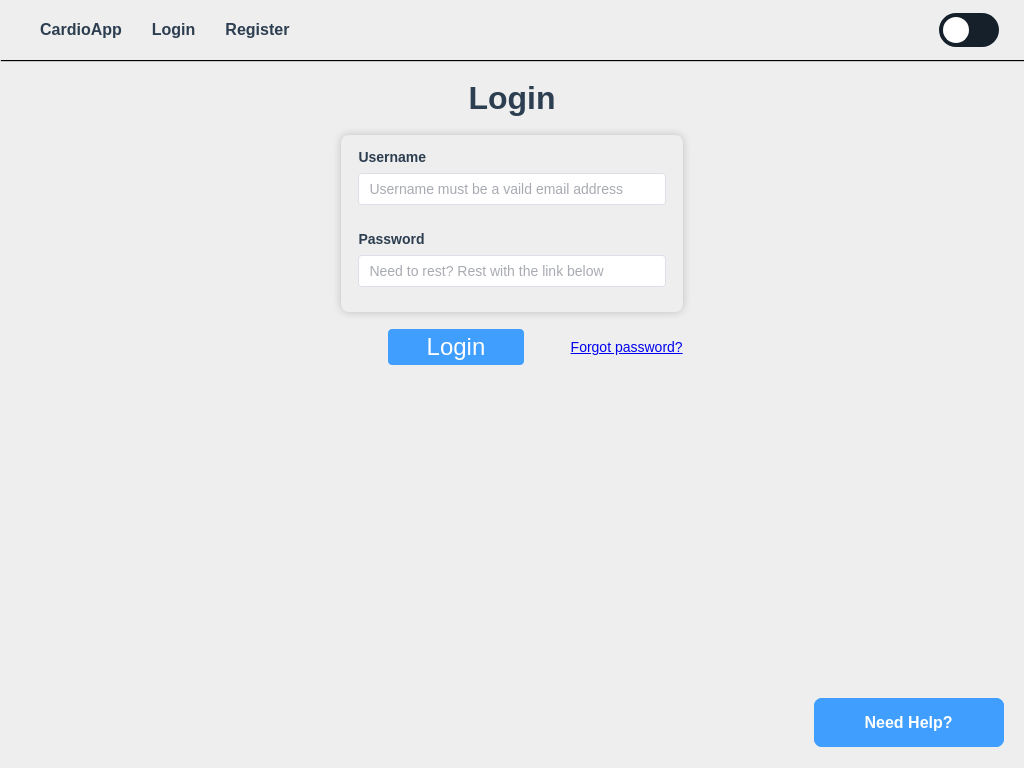
Scenario: Login Page tests › Forget password link
The width and height of the screenshot is (1024, 768).
Click the link with class "forgetPassword": (627, 347) 571,339 -> 683,355
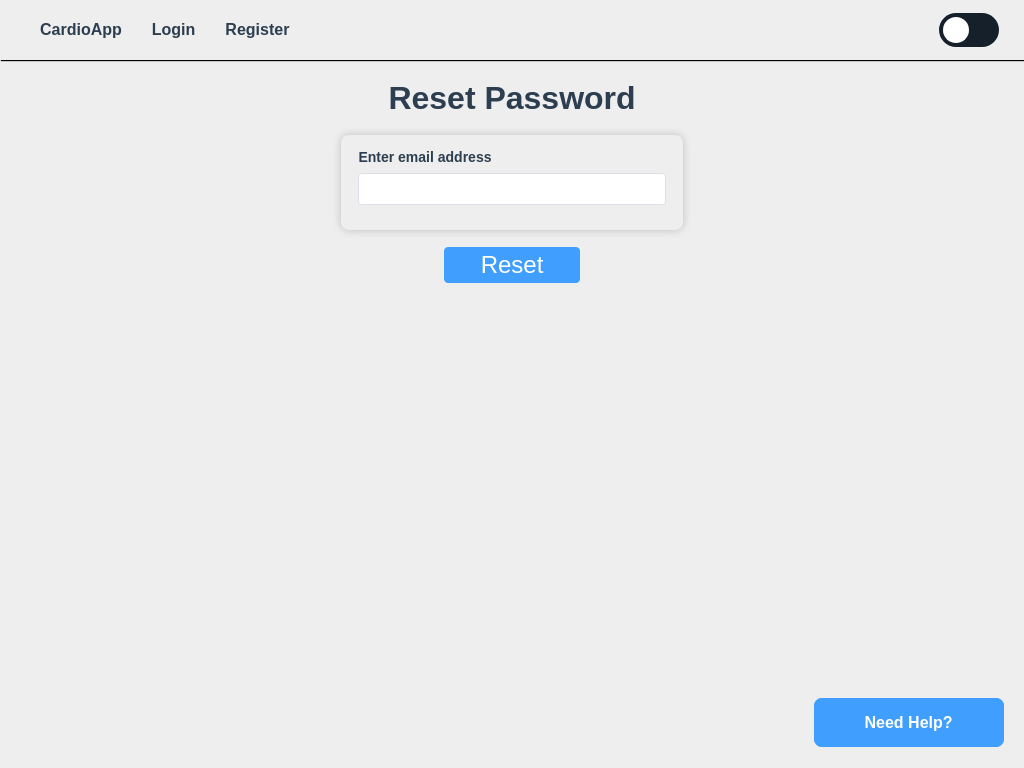
Expected: the heading "Reset Password" is shown, 388,80 -> 636,116
